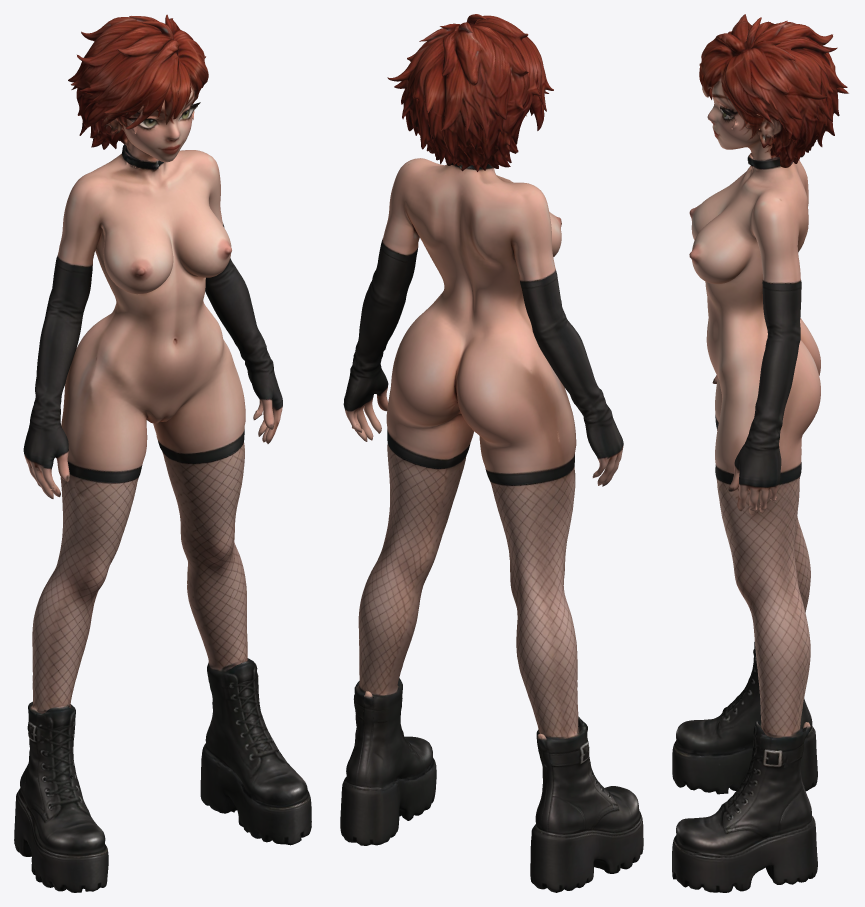
The model's file is compact.glb.
3 renders of one model, left to right at view 1: azimuth 30°, elevation 25°; view 2: azimuth 150°, elevation 25°; view 3: azimuth 270°, elevation 25°, orthographic. The views are drawn at different scales.
Visible parts, largest first — view 1: tripo_node_01894985; view 2: tripo_node_01894985; view 3: tripo_node_01894985.
Part boxes in pixels (<box>): tripo_node_01894985: <box>14,14,311,892</box>; tripo_node_01894985: <box>340,14,643,892</box>; tripo_node_01894985: <box>672,14,848,892</box>.
Size of the model in its own units: 0.3303 by 0.9773 by 0.1953.
Materials: 1 (1 with a texture image).
